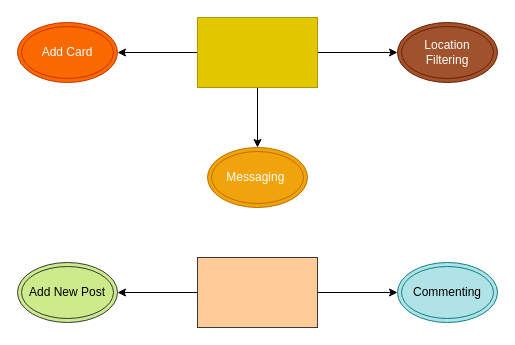
Some shapes in this 515 by 345 pixel diagram are drawn without their labels. The centre of each missing label's shape, as x and y in pixels:
"Market" goes at (257,52).
"Timeline" goes at (257,292).
